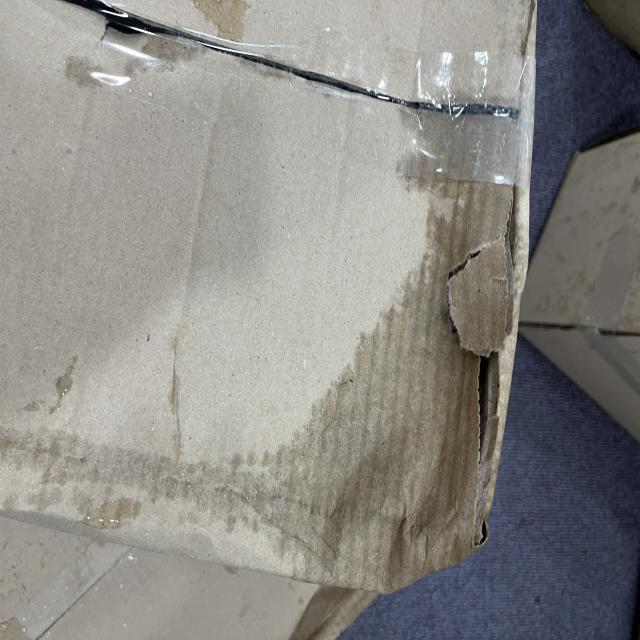wet: (285, 131, 514, 578)
